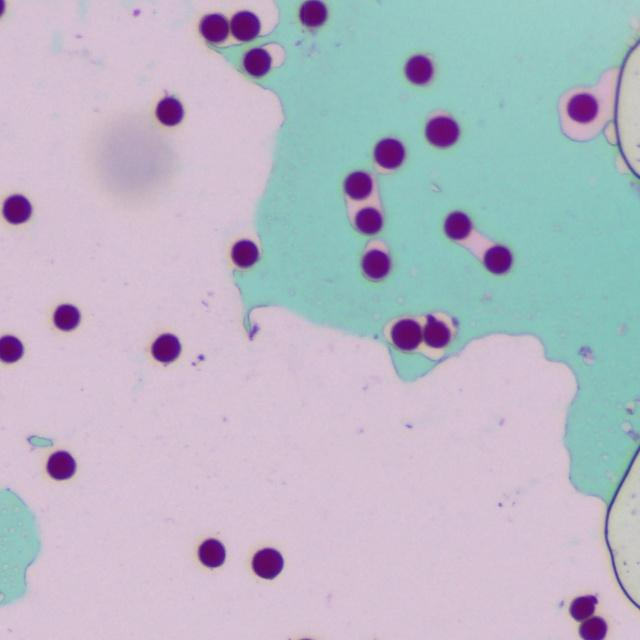viable: (426, 115, 459, 147), (391, 319, 421, 350), (374, 139, 404, 169), (253, 548, 283, 578), (230, 11, 260, 41), (568, 93, 597, 122), (152, 333, 180, 363), (362, 249, 390, 279), (3, 194, 31, 223), (405, 55, 433, 84), (484, 245, 512, 274), (200, 14, 229, 42), (424, 316, 450, 347), (47, 451, 75, 479), (198, 538, 225, 567), (243, 49, 271, 76), (299, 0, 327, 27), (231, 240, 258, 267), (355, 207, 382, 234), (156, 97, 182, 125), (345, 172, 372, 198), (53, 304, 79, 330), (445, 212, 470, 239), (570, 595, 596, 620), (0, 335, 23, 362), (579, 617, 606, 639)
